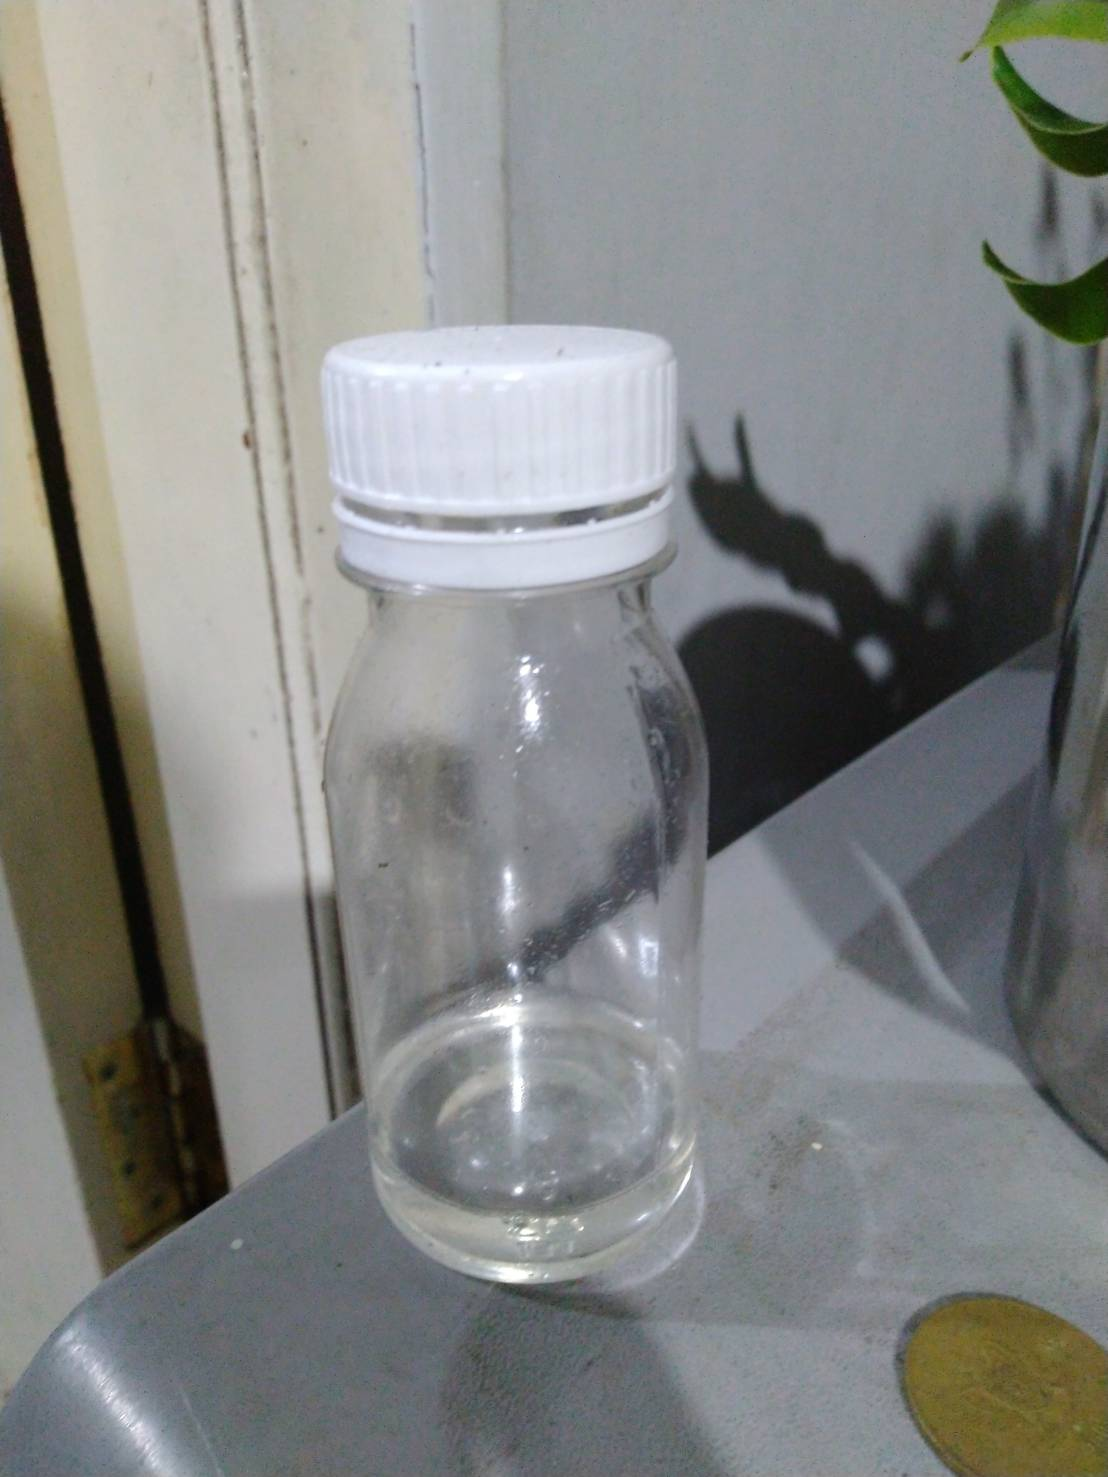HDPE: (318, 326, 682, 563)
PET: (327, 591, 712, 1285)
